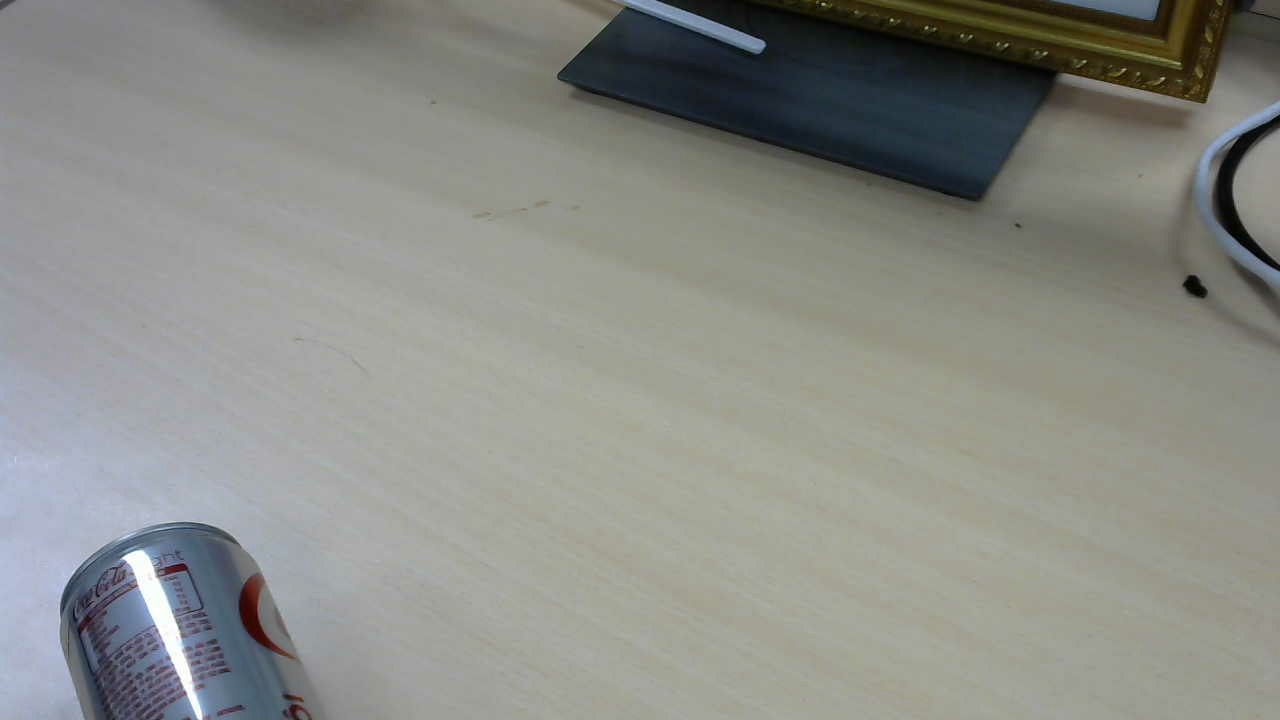Coca_Cola: (65, 528, 320, 699)
